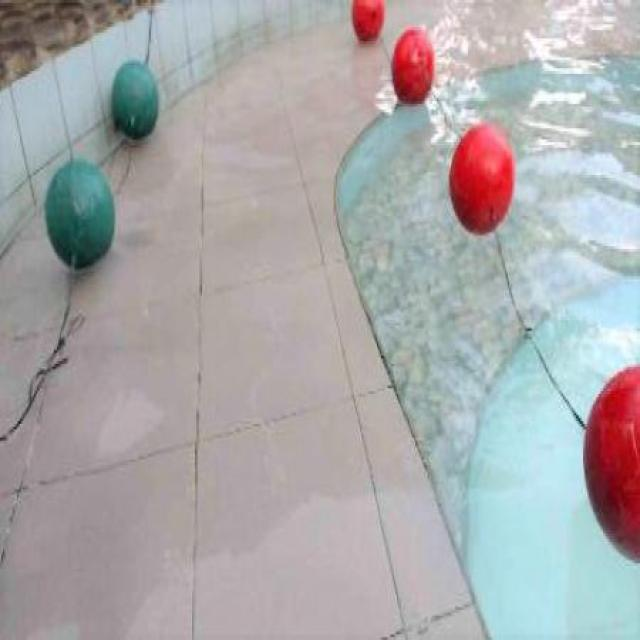buoy: (582, 360, 640, 564), (44, 159, 115, 268), (446, 123, 514, 233), (108, 60, 158, 136), (392, 27, 433, 104), (350, 0, 384, 38)
